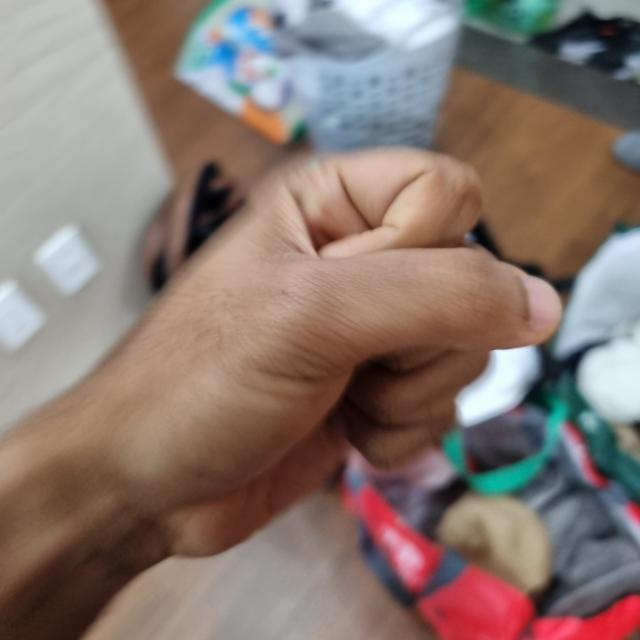Rock: (58, 148, 559, 558)
